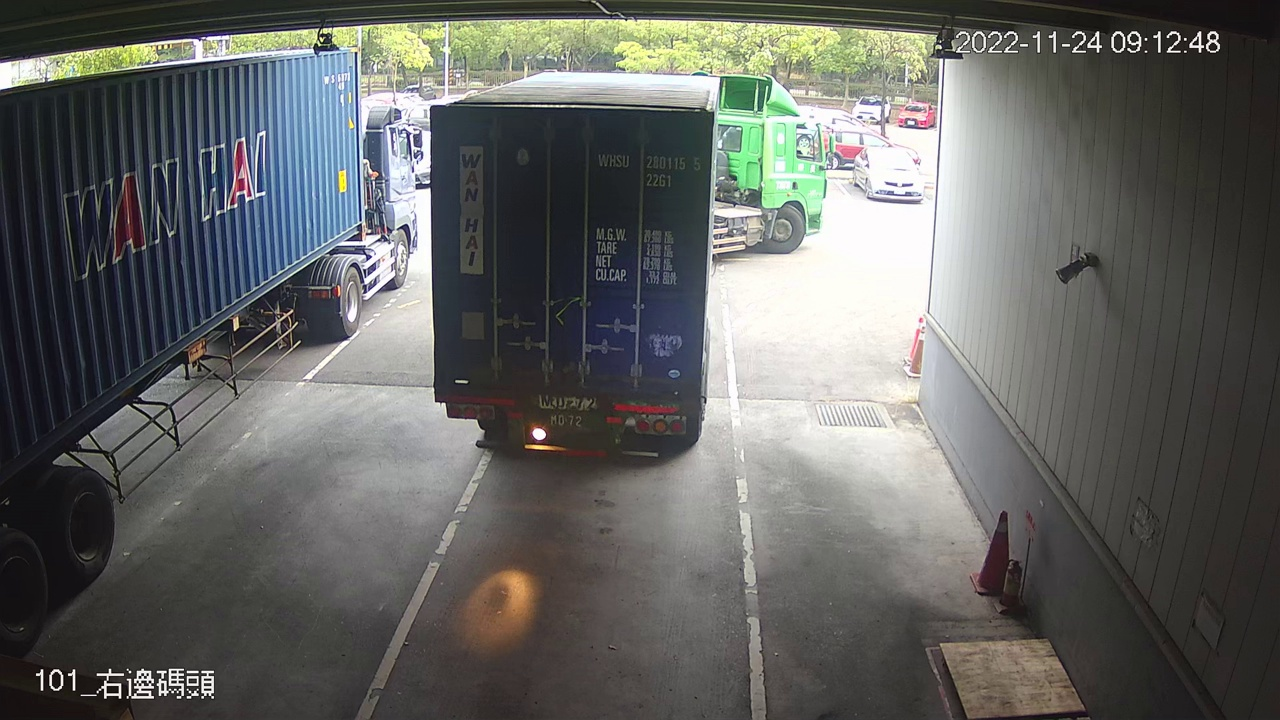container: (588, 145, 707, 194)
